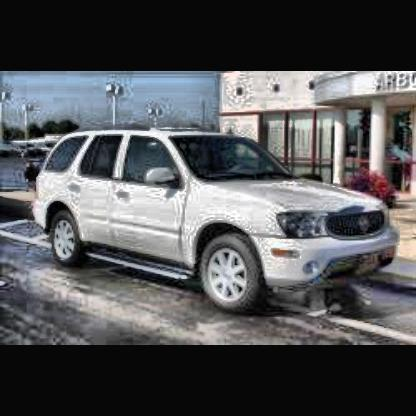Buick Rainier SUV 2007: (32, 126, 404, 317)
